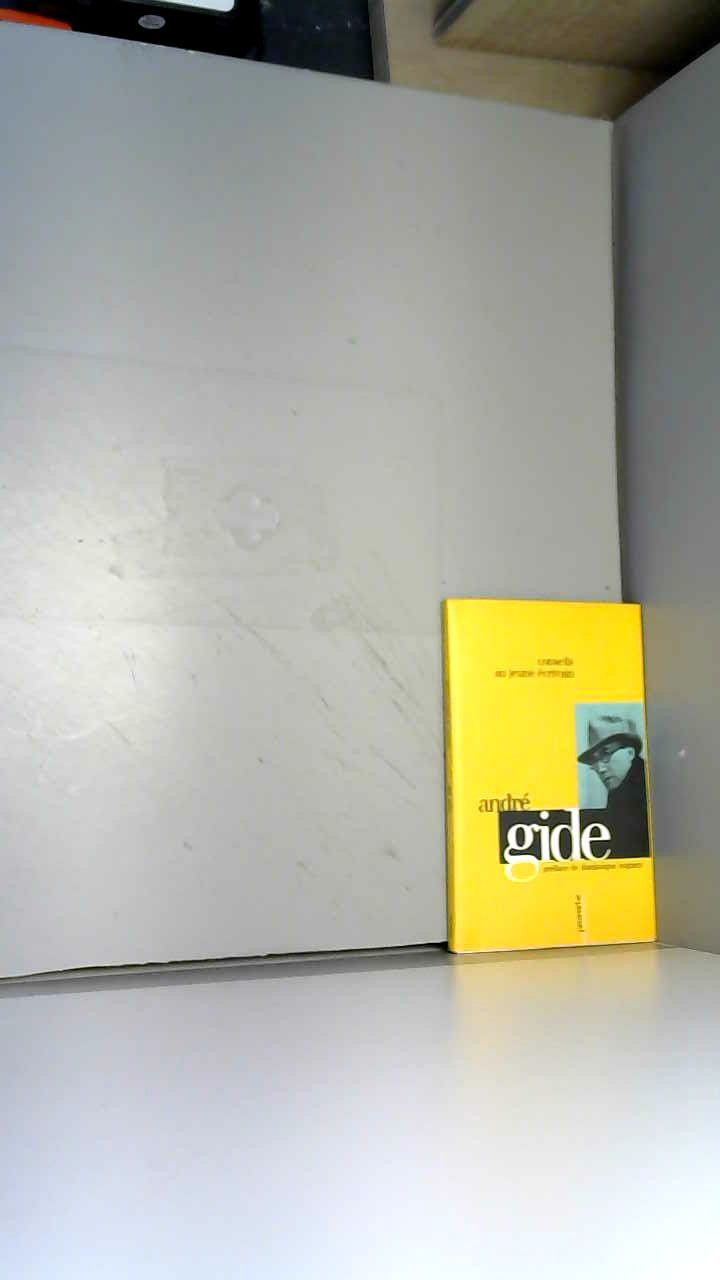book: (401, 552, 701, 998)
